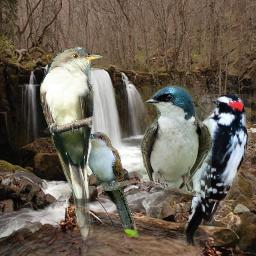Cuckoo: (40, 46, 103, 242), (85, 132, 139, 237)
Swallow: (140, 85, 212, 197)
Woodpecker: (176, 94, 252, 246)
